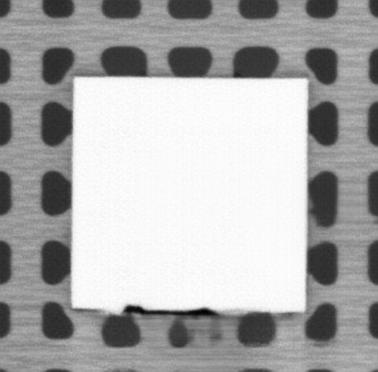DIE_BROKEN: (120, 302, 219, 316)
